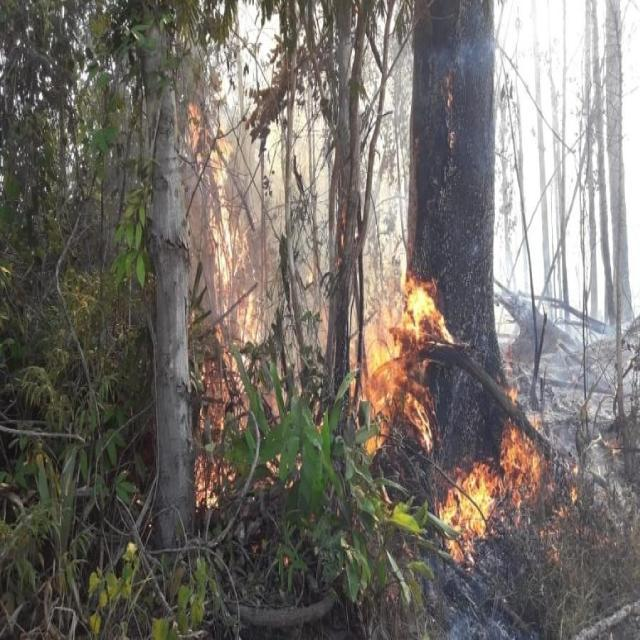Fire: (185, 112, 262, 344), (435, 408, 551, 557), (361, 267, 448, 459), (197, 367, 247, 495)
Smoke: (535, 245, 639, 420)
